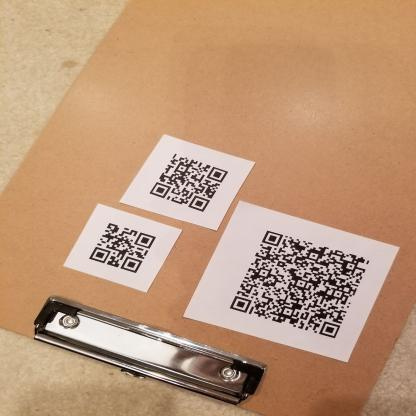qr: (229, 226, 376, 351), (154, 153, 230, 212), (87, 221, 159, 275)
